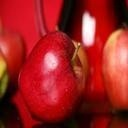apple: (18, 29, 86, 122)
